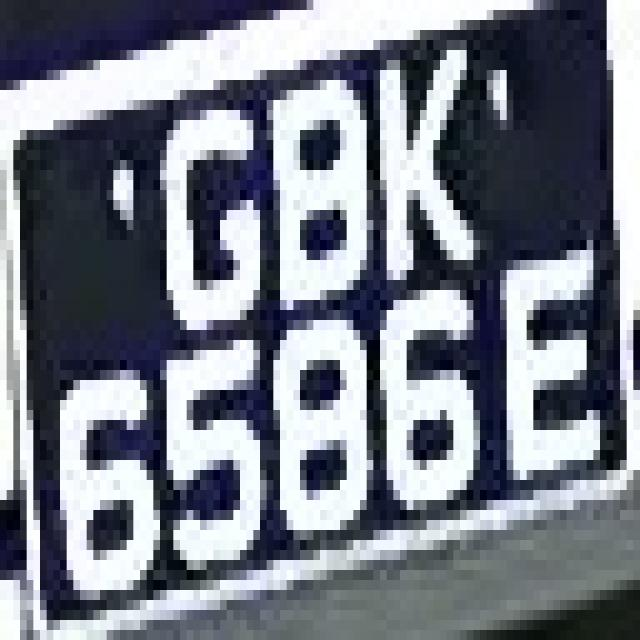5: (140, 330, 273, 600)
6: (360, 260, 480, 550), (40, 340, 167, 610)
8: (247, 310, 373, 550)
B: (247, 80, 373, 330)
E: (487, 240, 620, 520)
G: (140, 80, 253, 340)
K: (353, 30, 480, 290)
